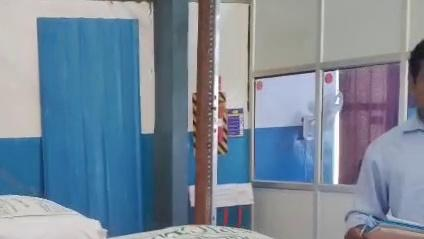box: (0, 195, 105, 239), (102, 225, 277, 239)
